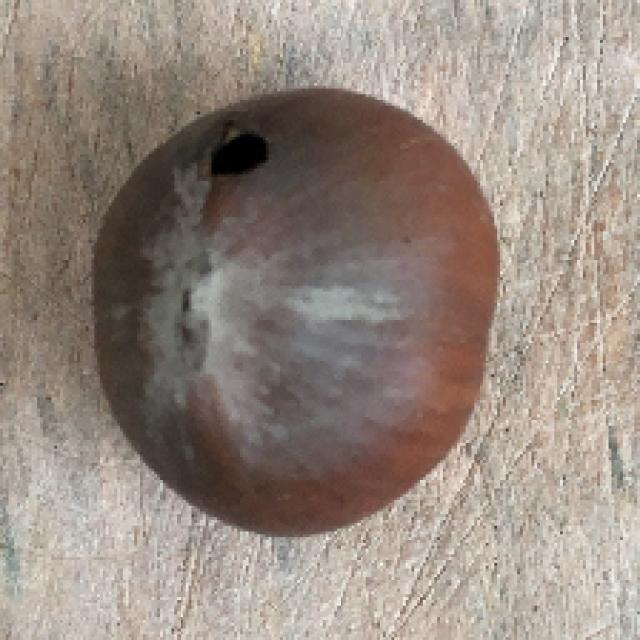damagedHazelnut: (99, 82, 498, 540)
